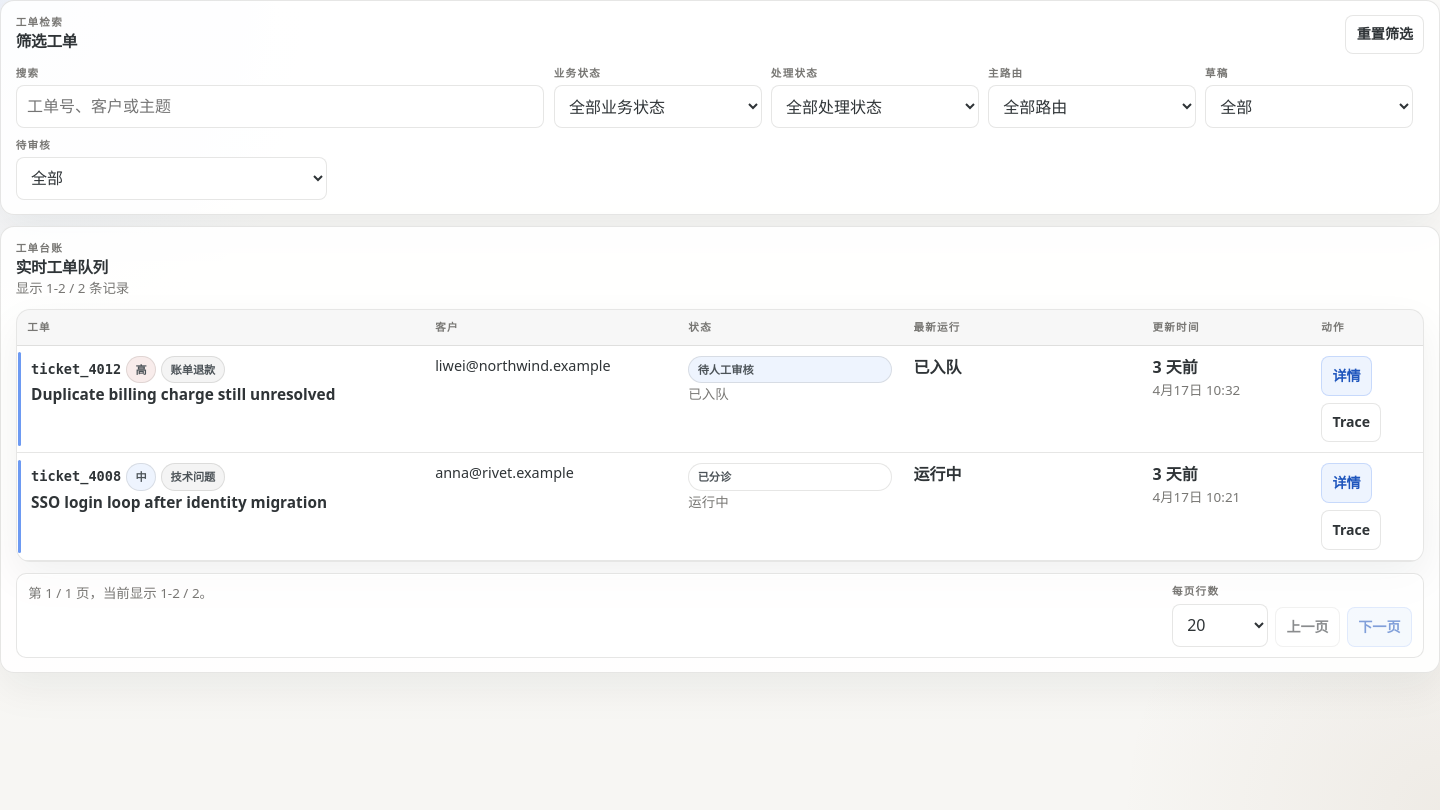
Test: TicketsPageV2 › forwards filter state into GET /tickets and resets the toolbar state
expect the button "Duplicate billing charge still unresolved" is shown: met, box [31,385,414,406]
Select "需要人工审核" in the dropdown labelled "待审核" at (172, 178), box [16,157,327,200]
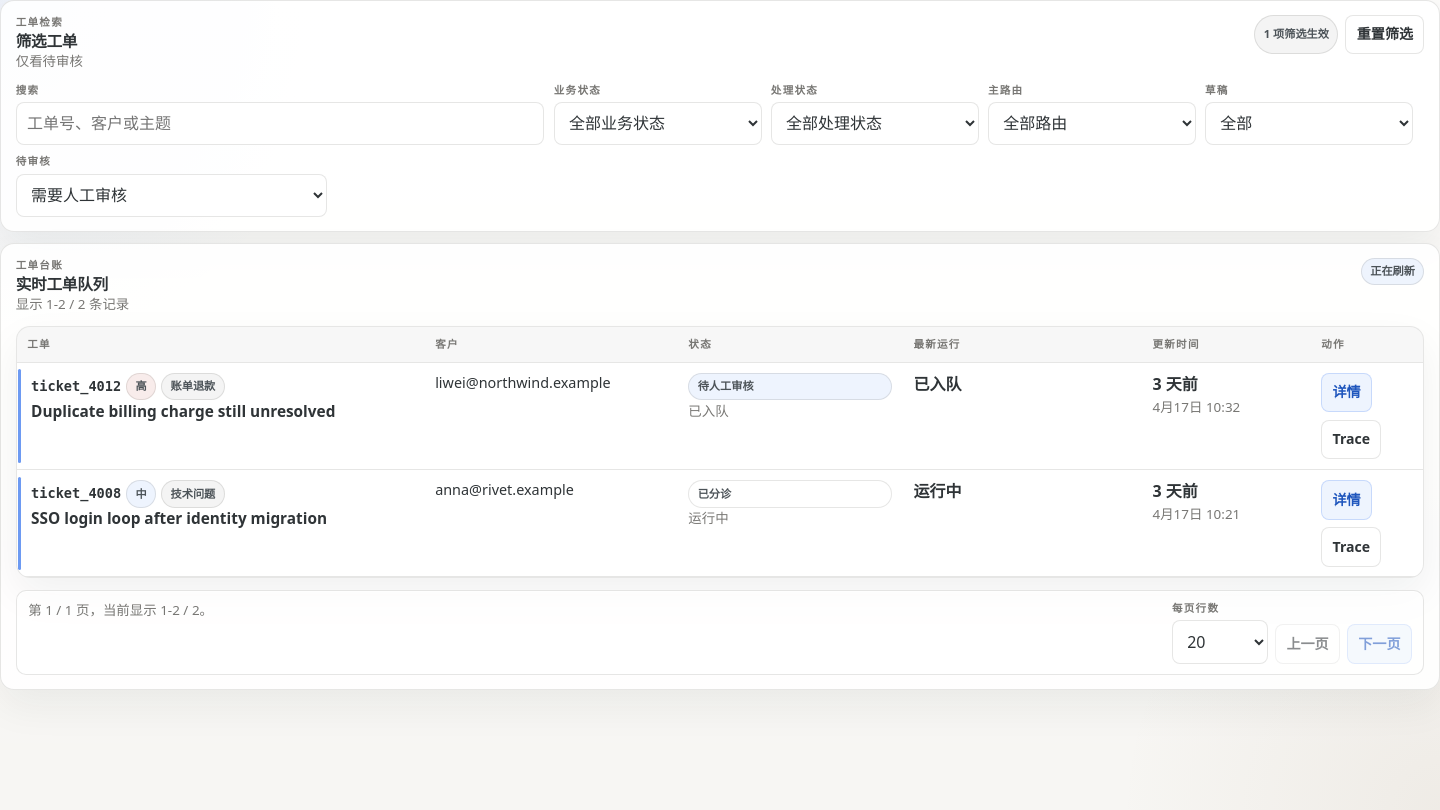
Type "refund" into the search field named "搜索工单".
click(280, 124); type("refund")  # box [16,102,544,145]
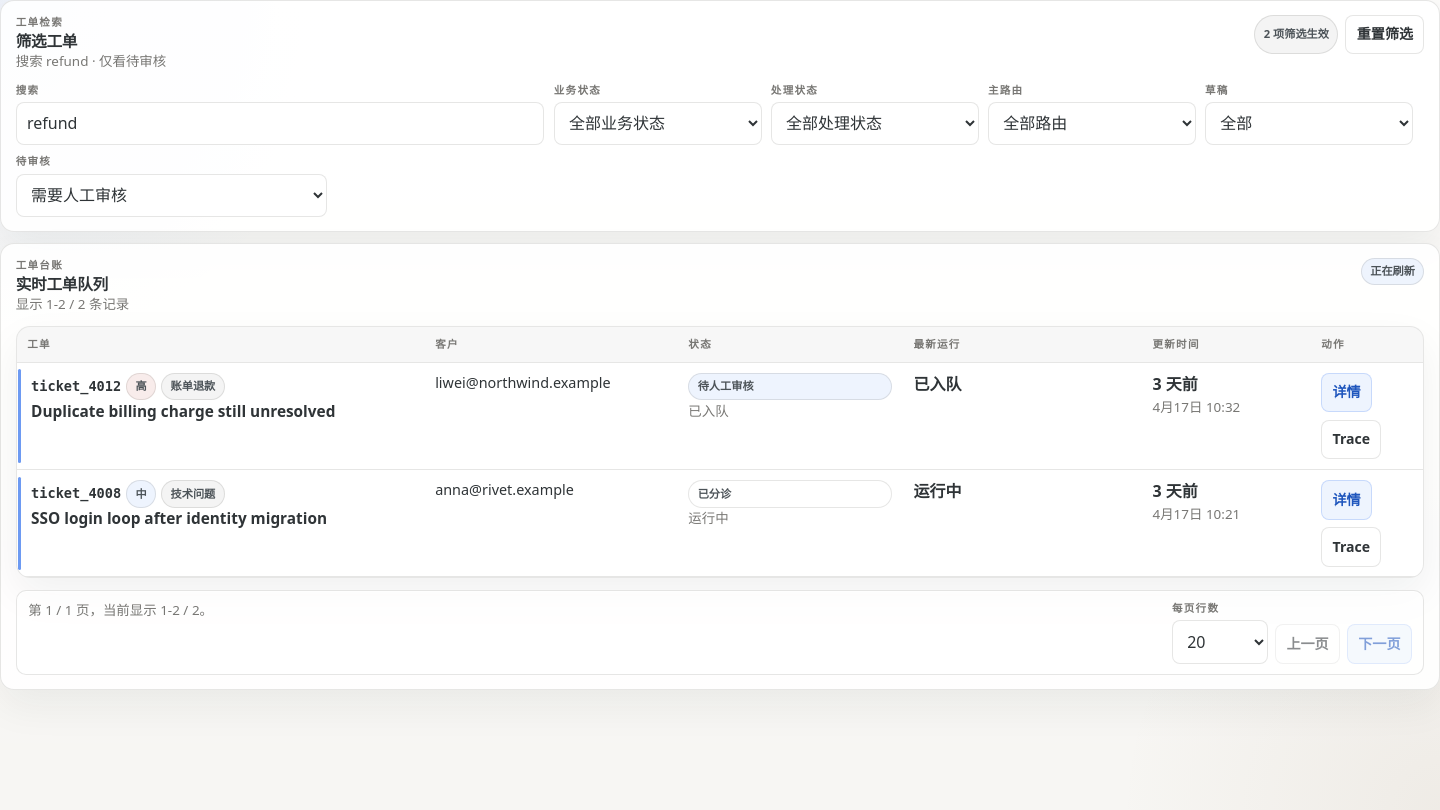
expect the text "2 项筛选生效" is shown: met, box [1254,15,1338,54]
expect the text "搜索 refund · 仅看待审核" is shown: met, box [16,52,166,71]
Click the button "重置筛选".
click(1385, 35)  # box [1346,15,1424,54]
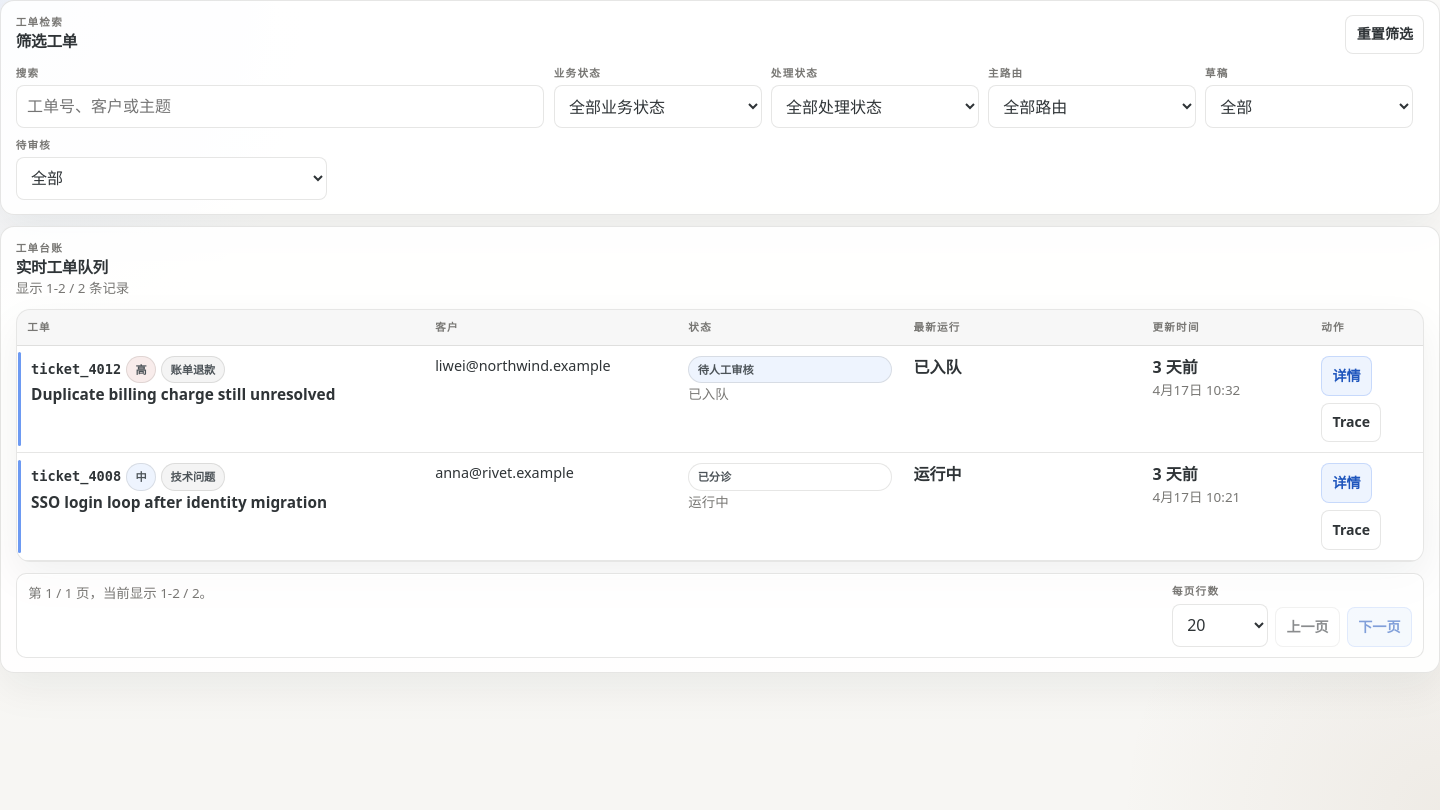
expect the search field named "搜索工单" is empty: met, box [16,86,544,128]
expect the text "搜索 refund · 仅看待审核" is gone: met
